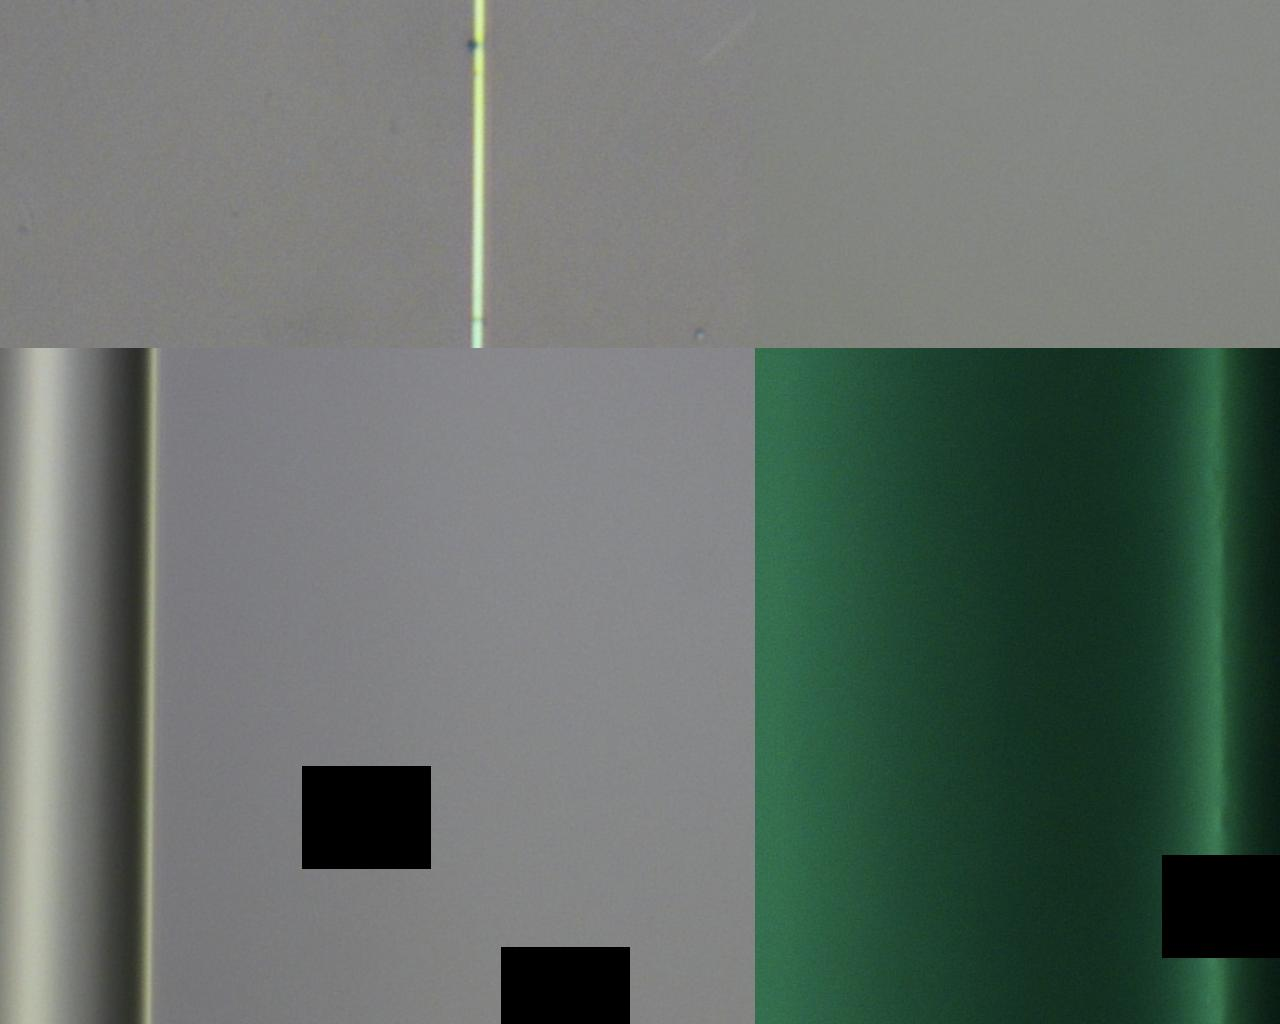fiber: (127, 505, 1151, 616)
